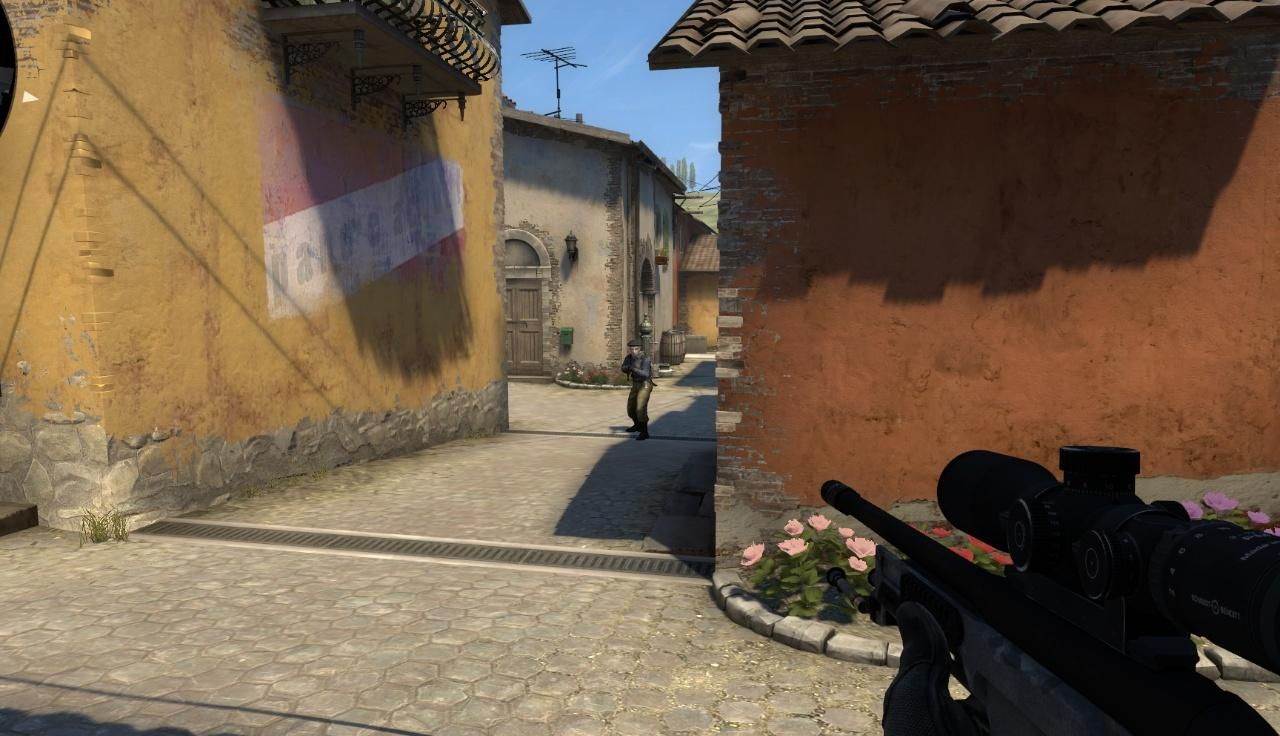sniper: (818, 456, 1280, 735)
tt: (618, 338, 654, 438)
tthead: (627, 339, 644, 356)
